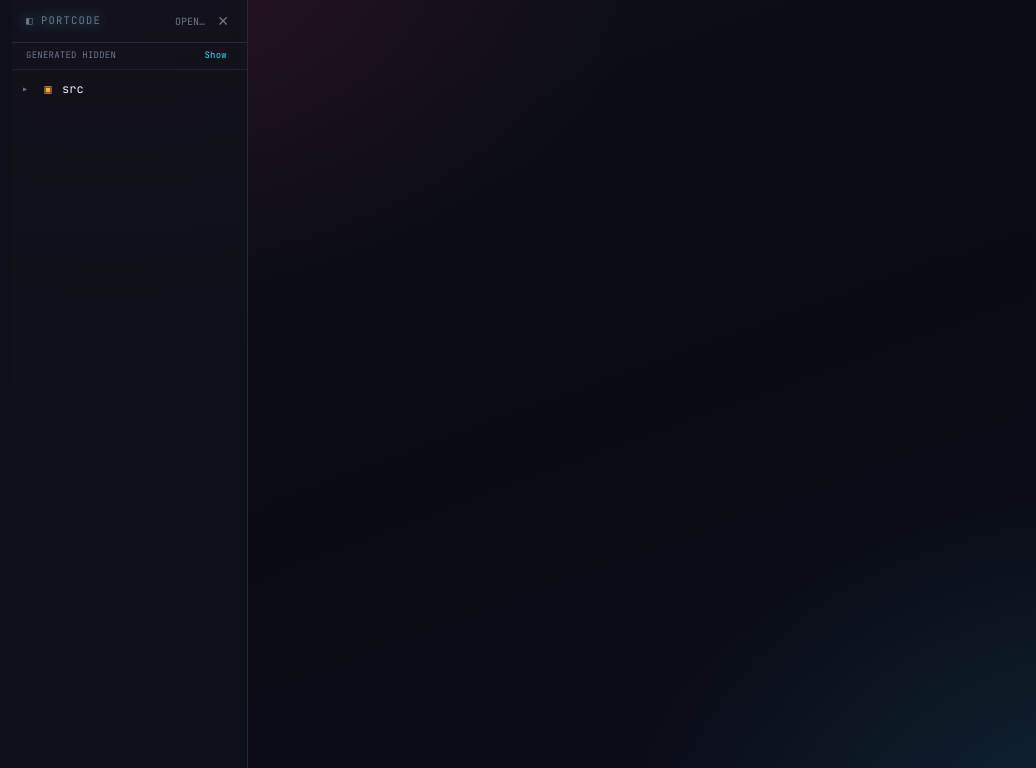
Test: FileExplorer right-click context menu › offers Expand on a closed directory and toggles it open
Right-click the list item with aria-label "src folder" at (130, 88), box [12,76,247,102]
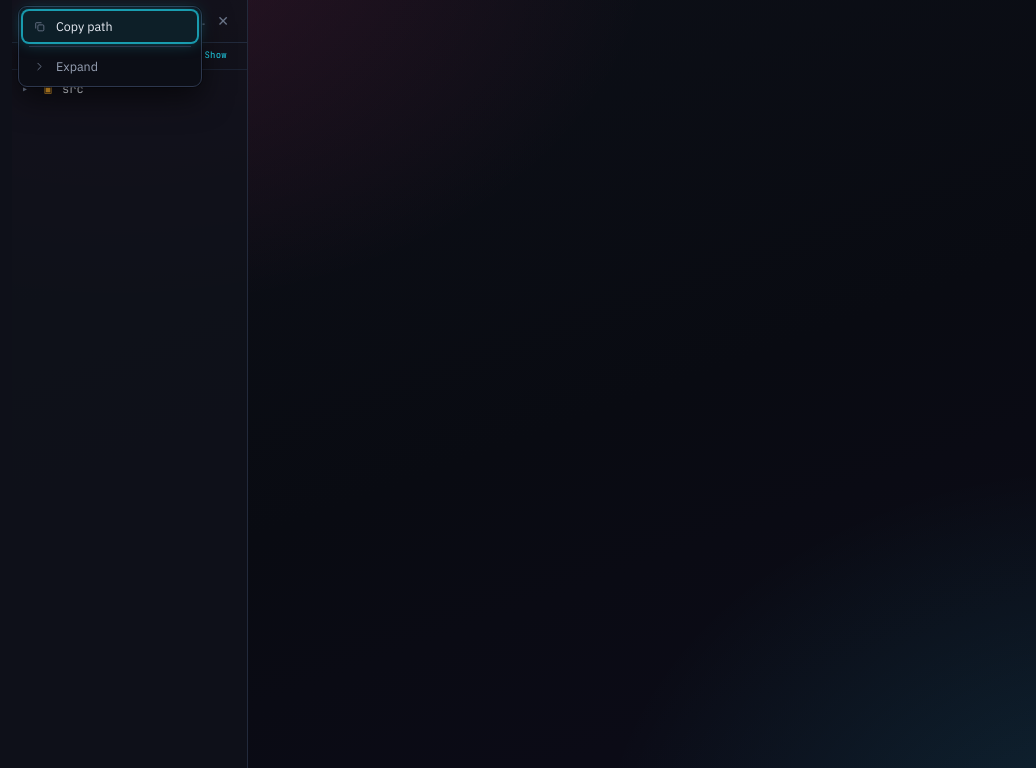
Closed dir → "Expand".
Click the menu item "Expand" at (110, 66), box [23,51,197,82]
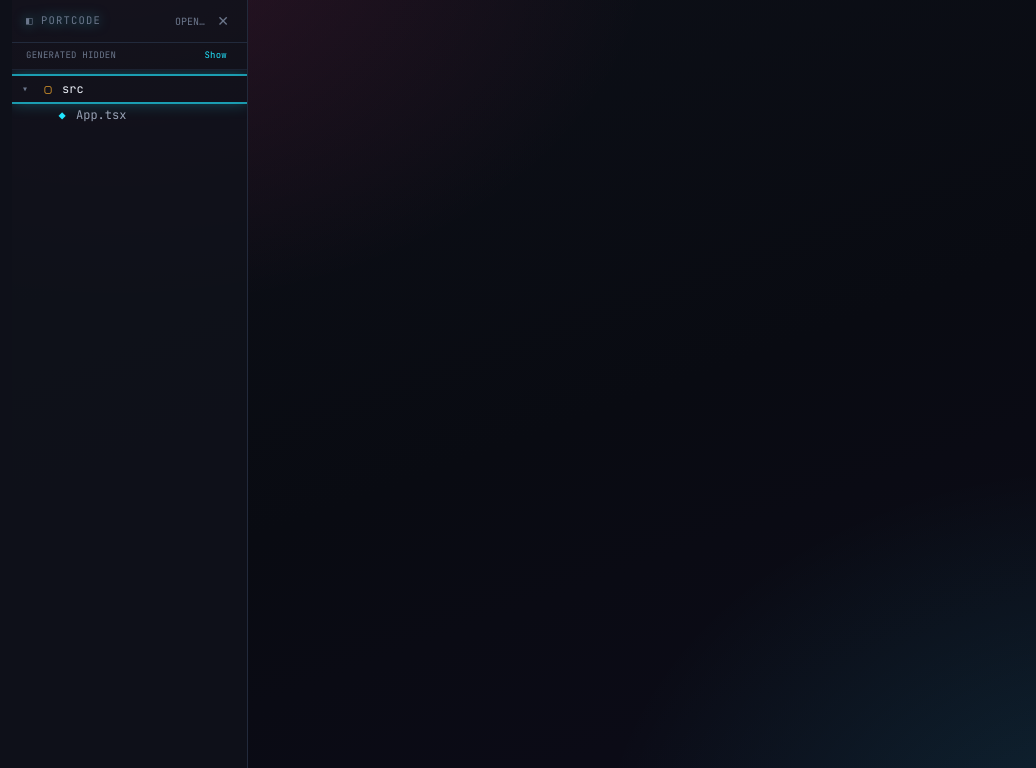
Expected: the list item with aria-label "src folder" is expanded, [12,76,247,102]
Expected: the text "App.tsx" is shown, [76,106,126,124]
